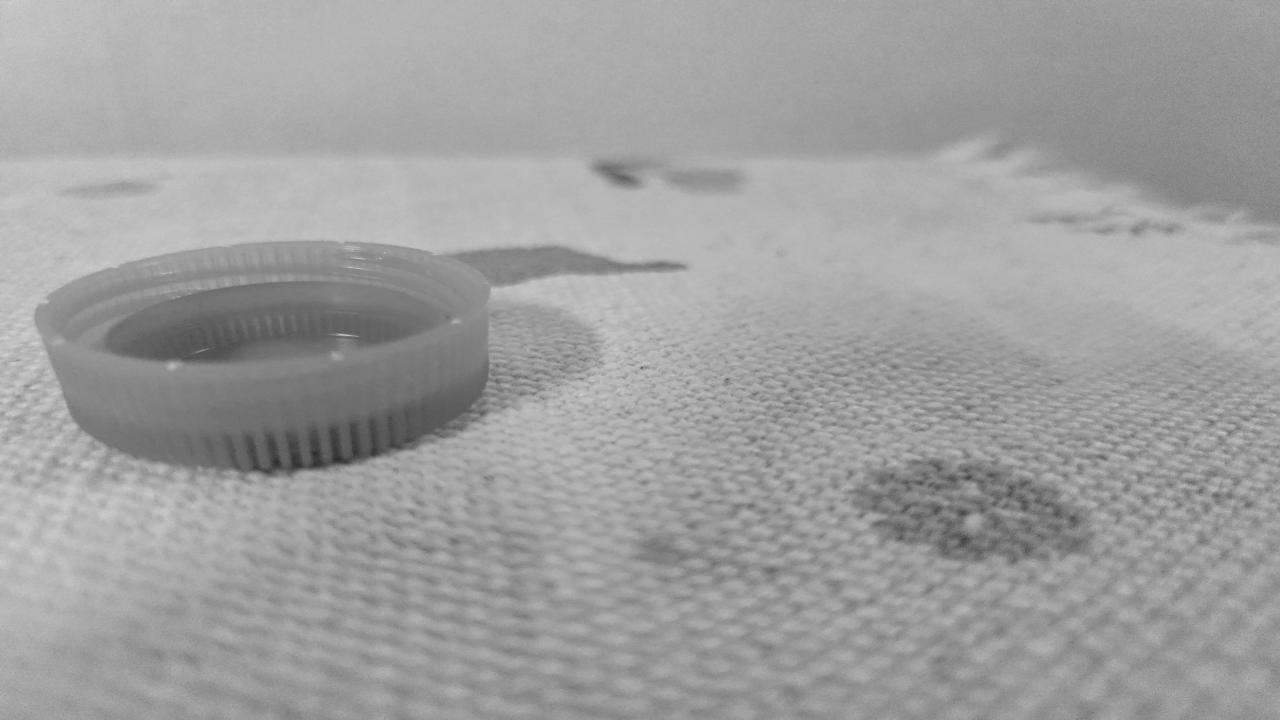bottle_cap: (27, 239, 497, 471)
